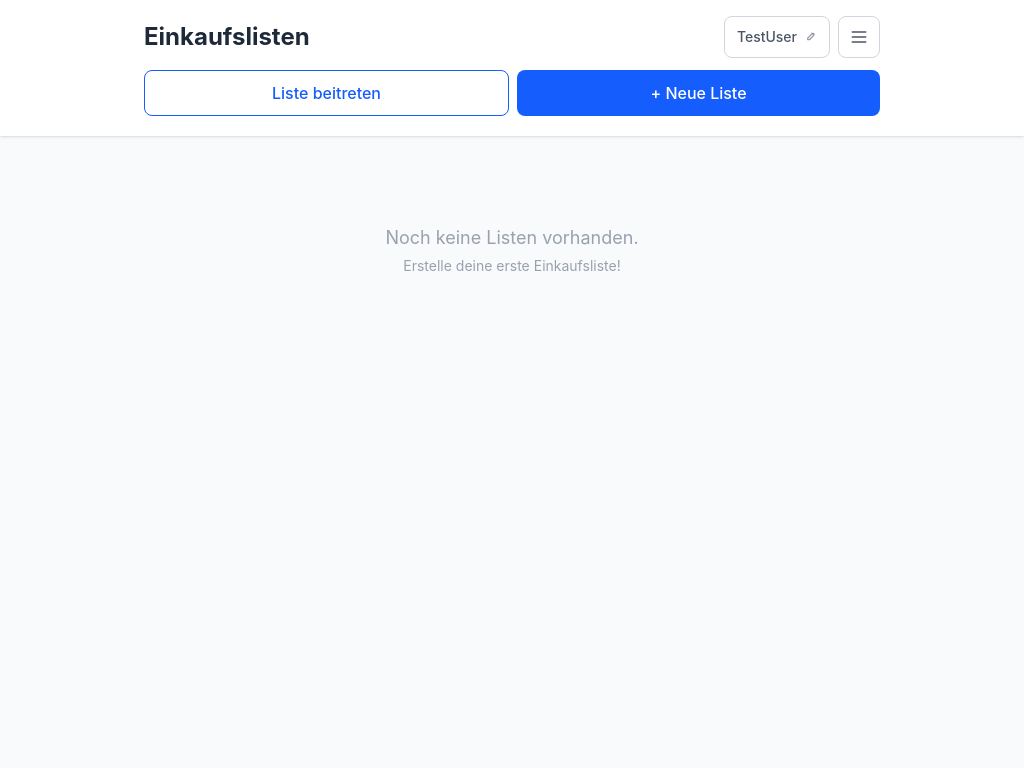
it: Share-Code QR › zeigt einen QR-Scan-Button im Beitreten-Modal
Click the button "Liste beitreten" at (327, 93), box [144, 70, 509, 116]
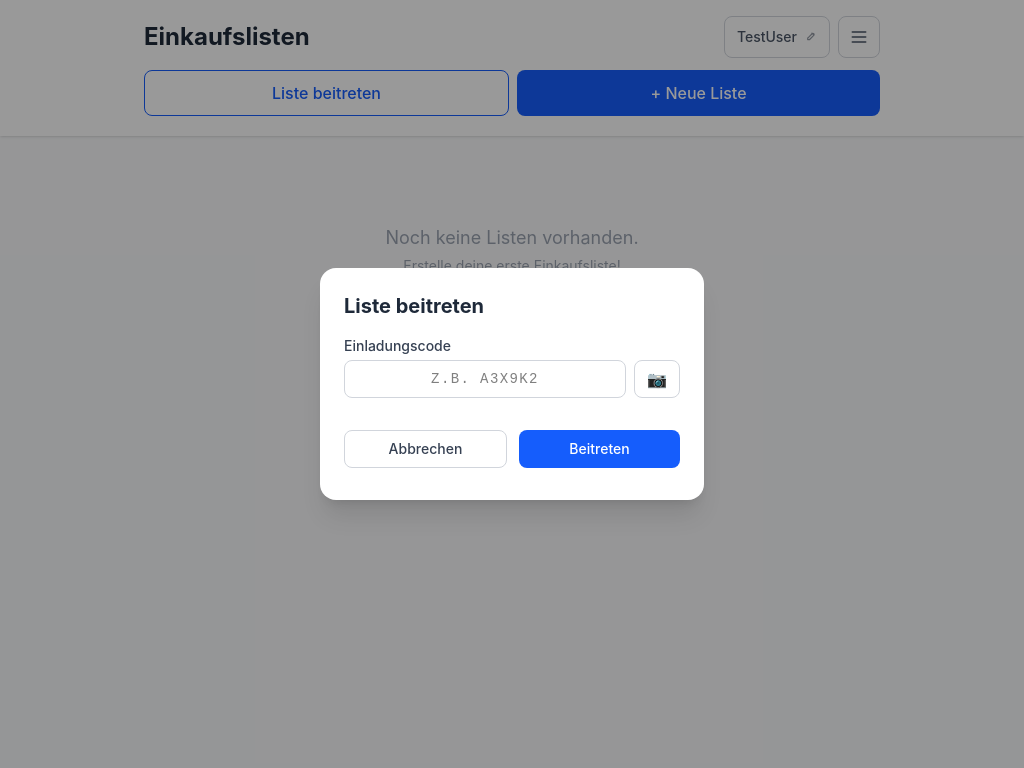
Check: the button with test id "qr-scan-btn" is shown, box [634, 360, 680, 398]
